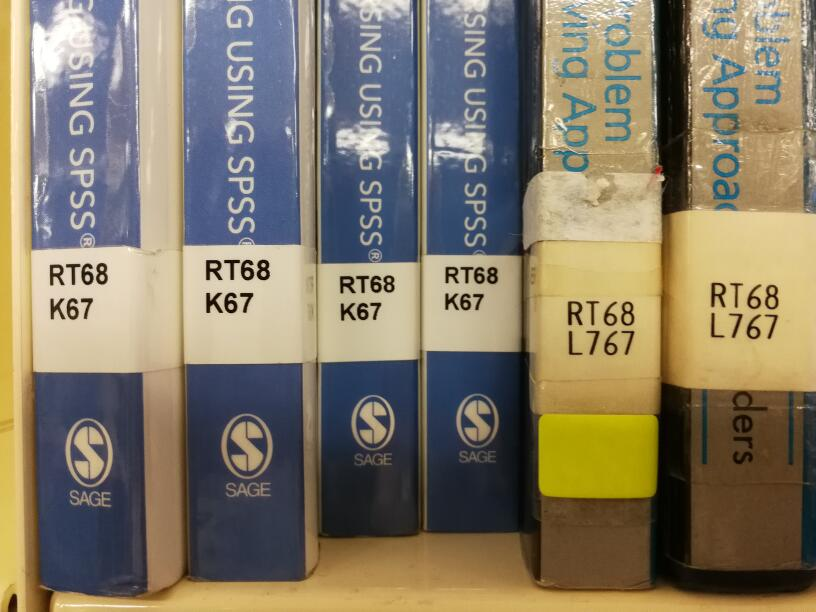booklabel: (706, 279, 781, 341), (563, 298, 638, 358), (200, 257, 272, 315), (46, 259, 110, 323), (334, 273, 396, 323), (441, 263, 500, 314)
